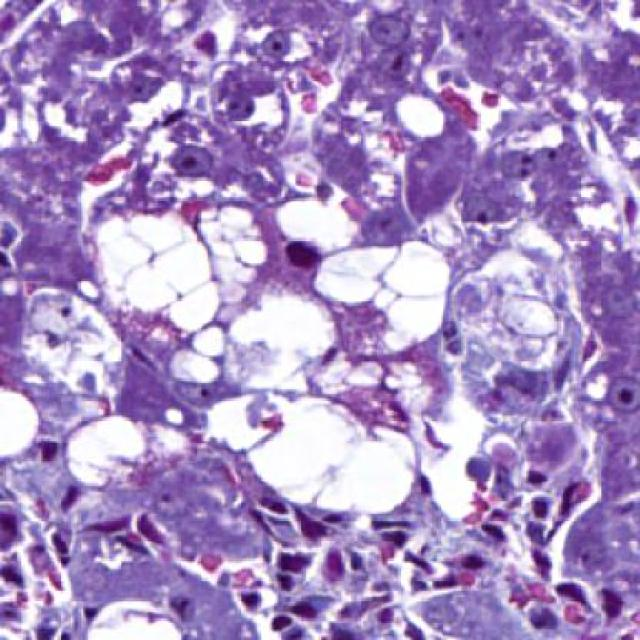ballooning: (200, 391, 421, 519), (92, 202, 228, 341), (311, 234, 457, 355), (194, 205, 274, 312)
